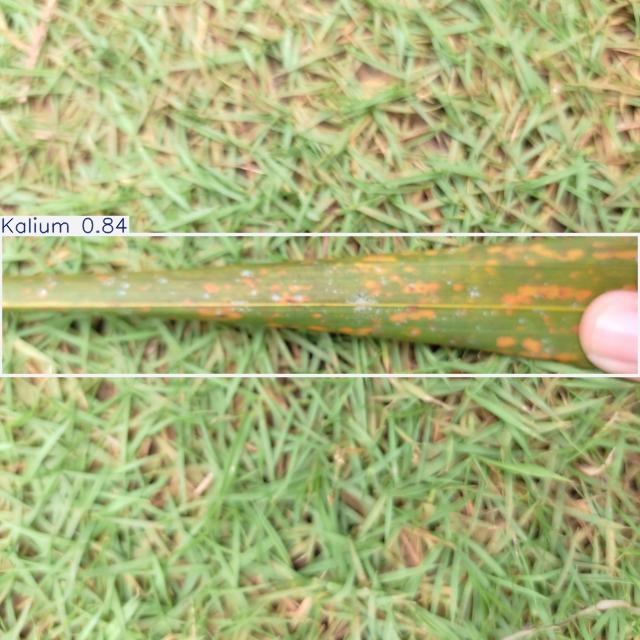Kalium: (0, 235, 640, 376)
